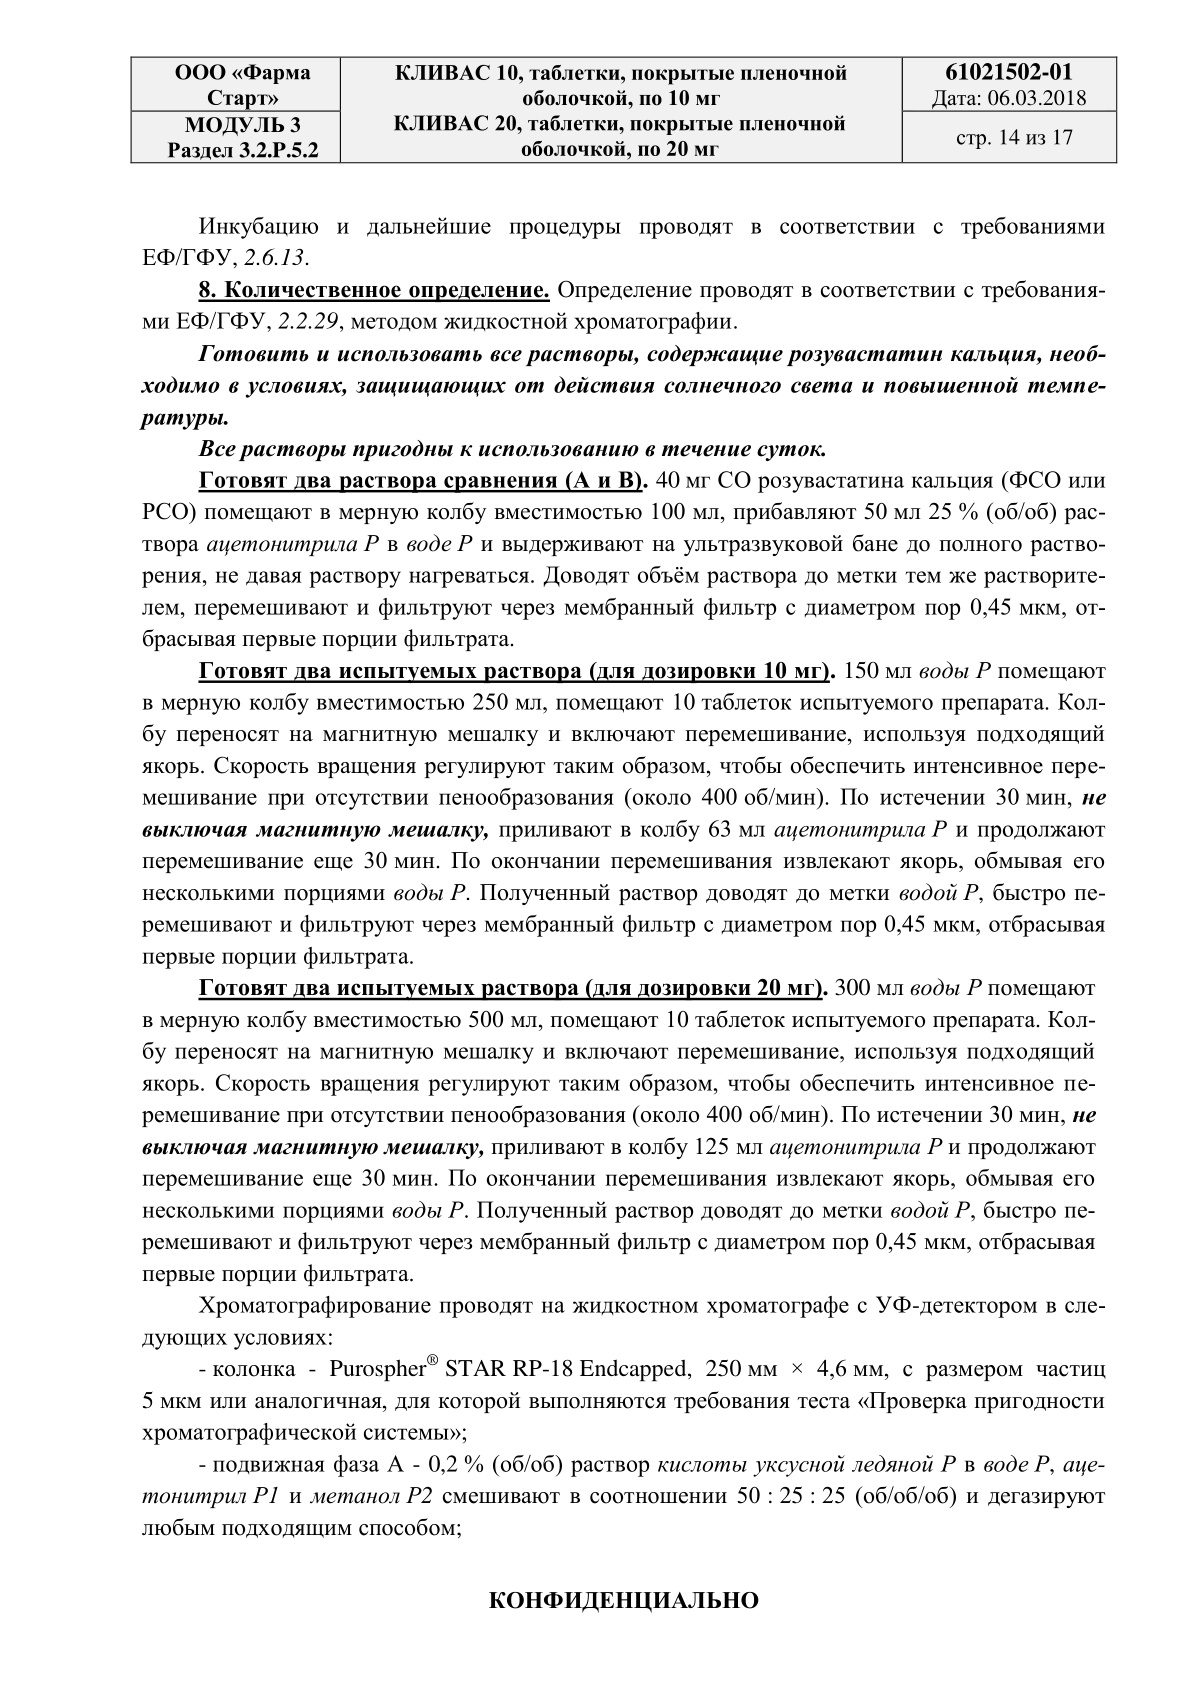merged_cells: (129, 54, 1118, 164)
